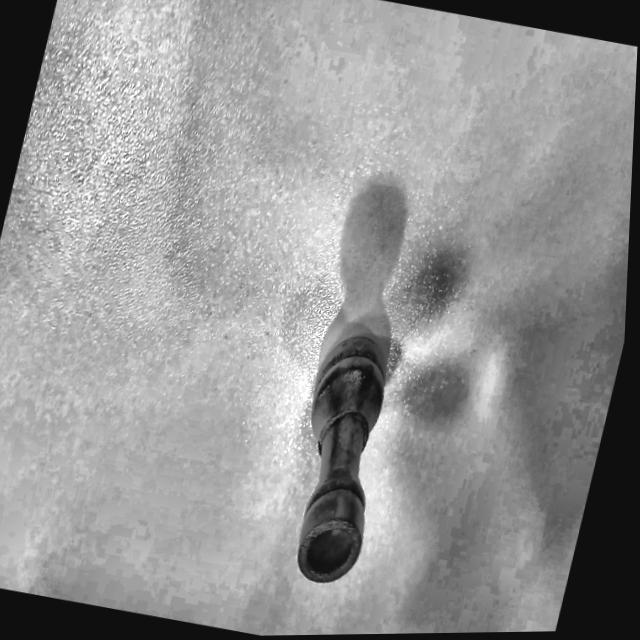black-rook: (248, 305, 427, 627)
